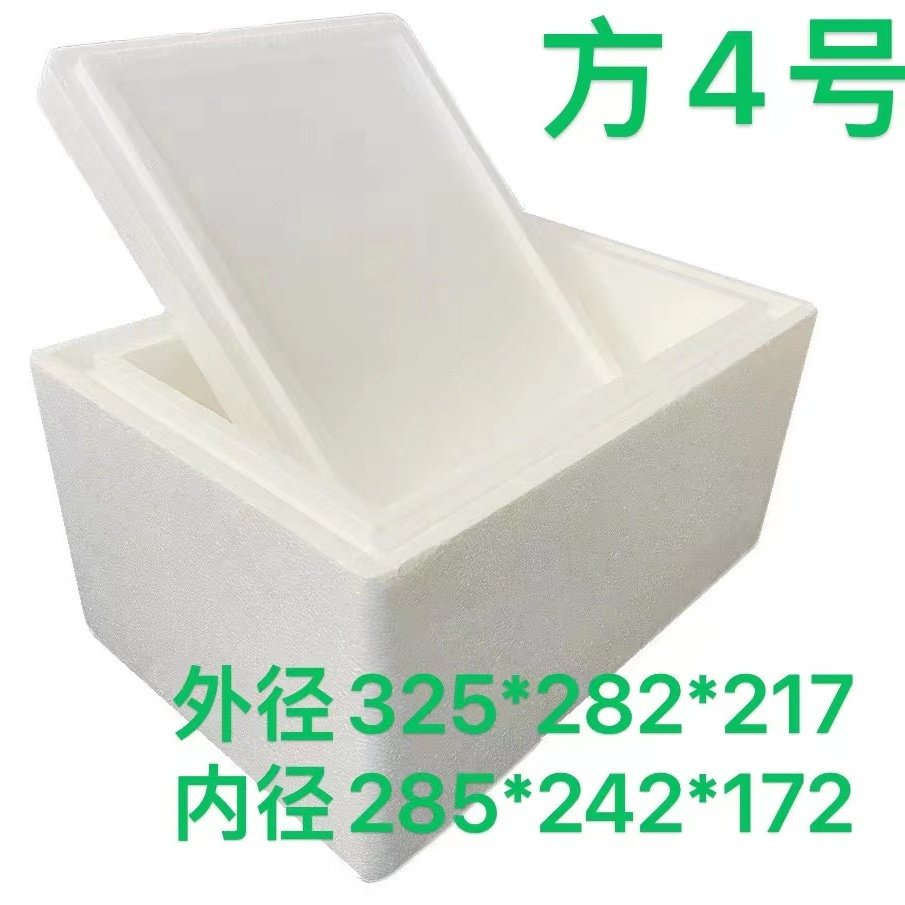Boxes: (32, 19, 813, 880)
